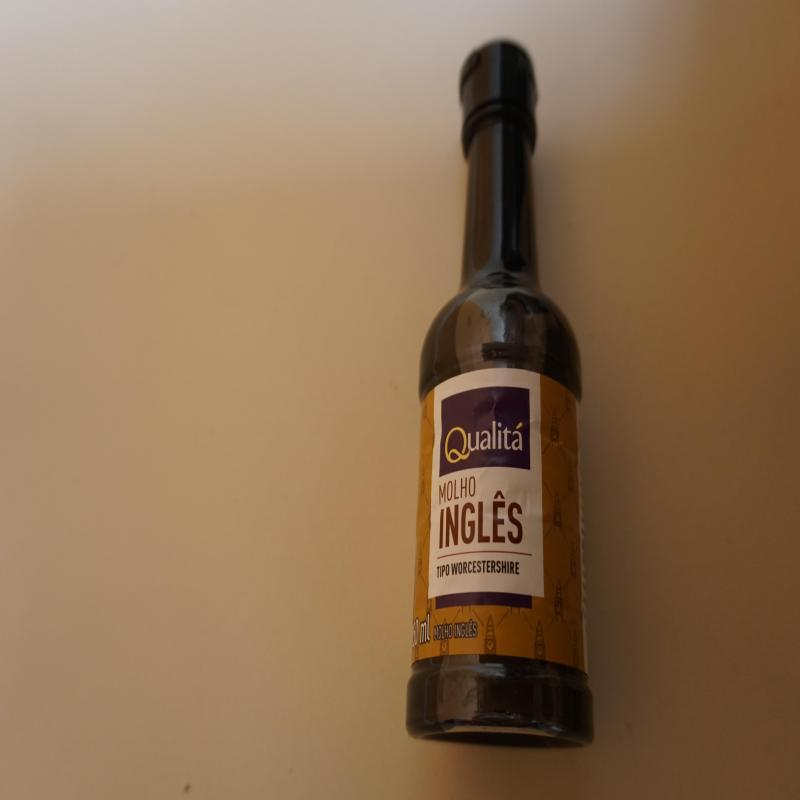EnglishSauce: (405, 39, 596, 750)
